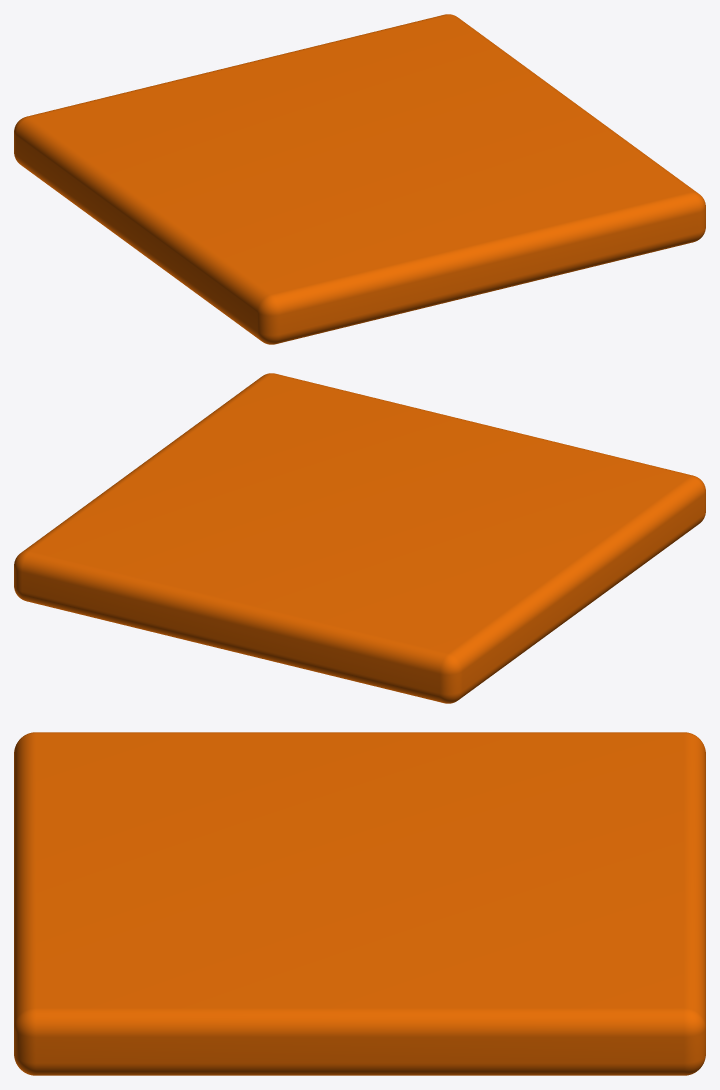
Rendered from square_bridge_blocks.glb.
3 renders of one model, top to bottom at view 1: azimuth 30°, elevation 25°; view 2: azimuth 150°, elevation 25°; view 3: azimuth 270°, elevation 25°, orthographic. The views are drawn at different scales.
Parts seen in each view (by area): view 1: Cube; view 2: Cube; view 3: Cube.
Boxes of the visible parts, x1,y1,x2,y2 form: Cube: (14, 14, 705, 344); Cube: (14, 373, 705, 703); Cube: (14, 732, 705, 1075).
Bounding box in the file's own units: 2 × 0.2094 × 2.
